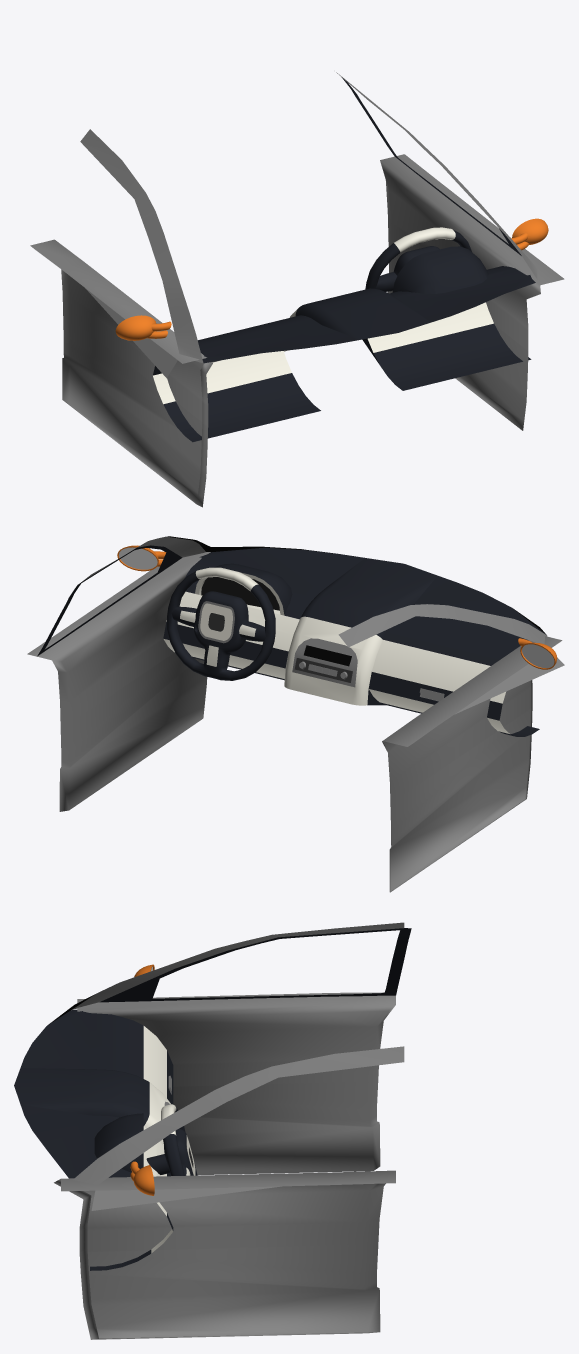
File: chasis.DAE
The picture shows the model from 3 angles, top to bottom: view 1: azimuth 30°, elevation 25°; view 2: azimuth 150°, elevation 25°; view 3: azimuth 270°, elevation 25°; orthographic projection. The views are drawn at different scales.
Visible parts, largest first — view 1: tablero; view 2: tablero; view 3: tablero.
Boxes of the visible parts, x1,y1,x2,y2 form: tablero: (30, 72, 564, 507); tablero: (27, 536, 564, 892); tablero: (14, 922, 411, 1339).
Size of the model in its own units: 3.53 by 2.1 by 3.74.
